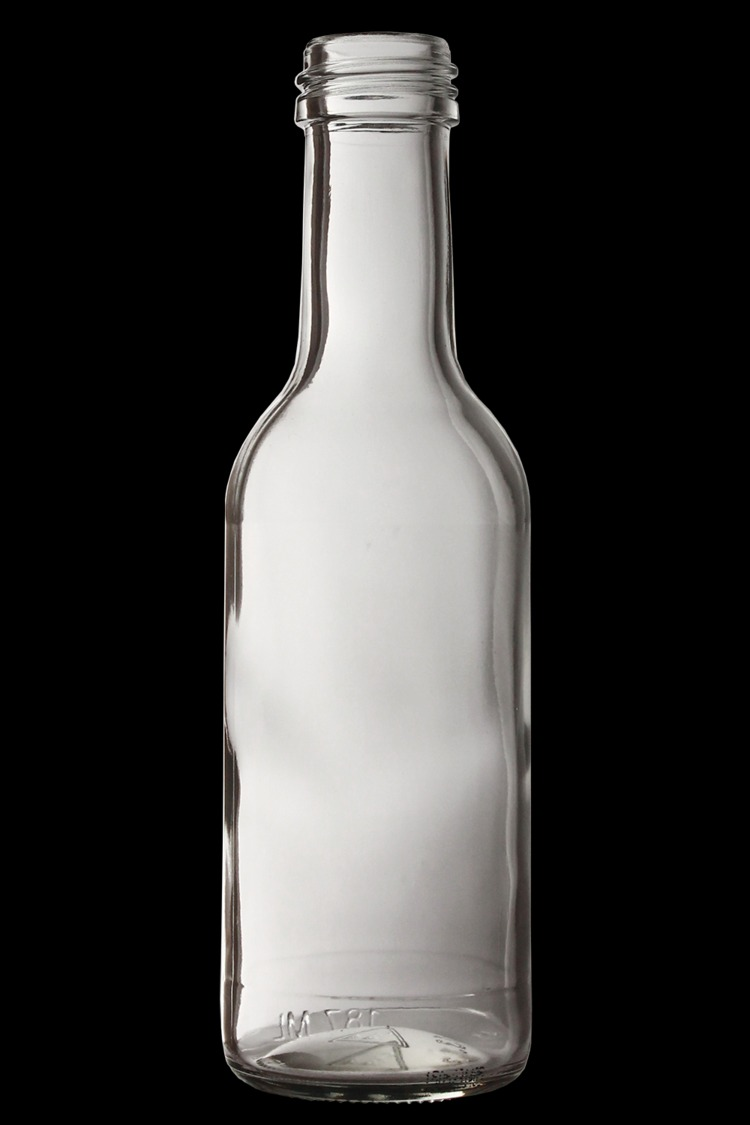container: (203, 21, 559, 1113)
